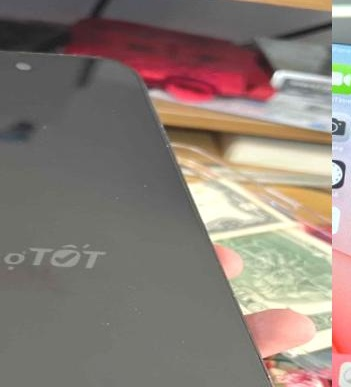scratch: (0, 39, 106, 66), (138, 172, 151, 192), (31, 121, 47, 136)
